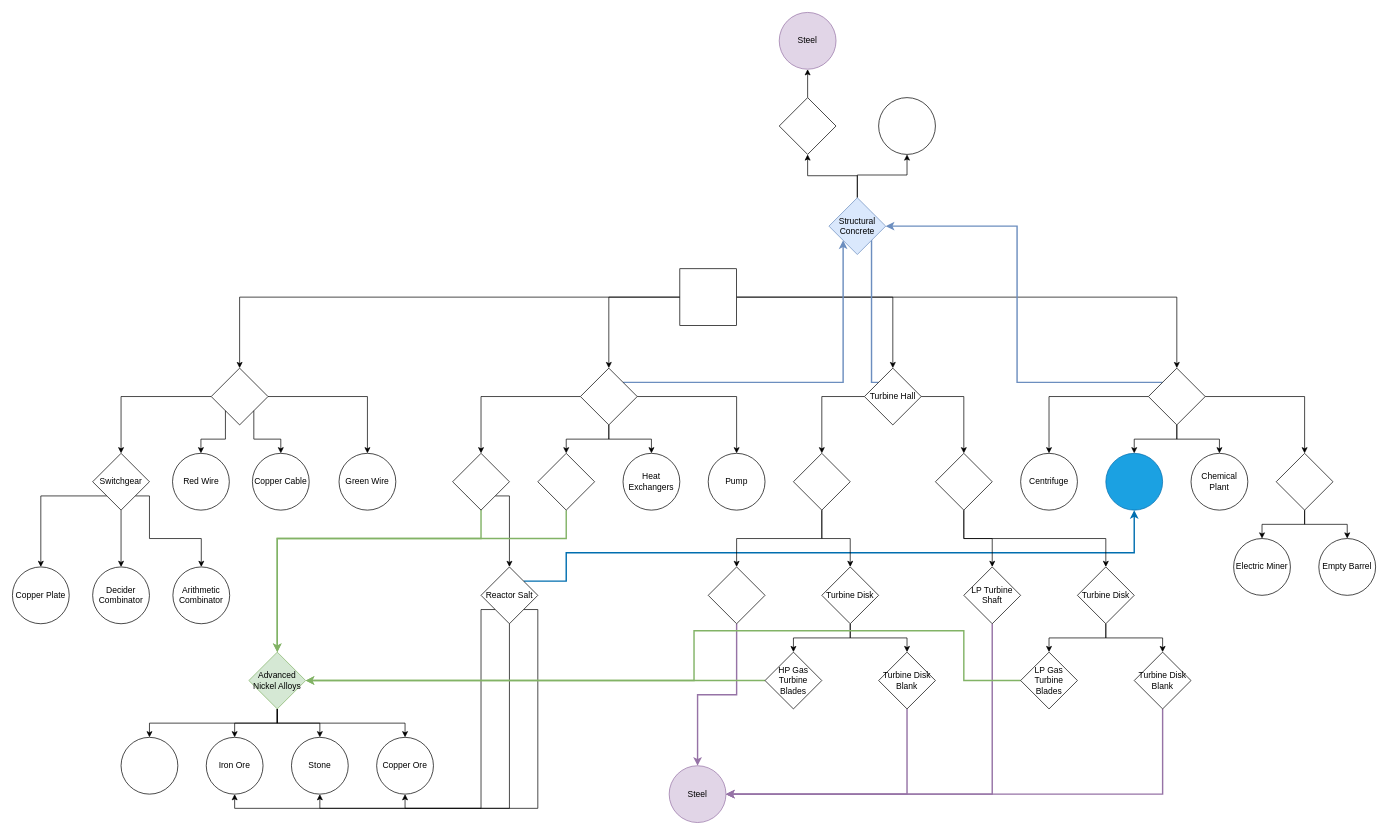
Some shapes in this 1388 by 835 pixel diagram are drawn without their labels. The shapes that lost their labels are listed below. From the top down, each one's centre as x and y in pixels, then its label:
At (807,125): "Rebar".
At (906,125): "Concrete".
At (708,297): "MSR".
At (239,396): "Electric Grid Interface".
At (608,396): "Reactor Hall".
At (1176,396): "Online Reprocessing Facility".
At (480,481): "Reactor Vessel".
At (566,481): "Corrosion Resistant Pipe".
At (821,481): "HP Gas Turbine".
At (963,481): "LP Gas Turbine".
At (1134,481): "Storage Tank".
At (1304,481): "Underground Century Waste Storage".
At (736,595): "HP Turbine Shaft".
At (149,765): "Uranium Ore".
